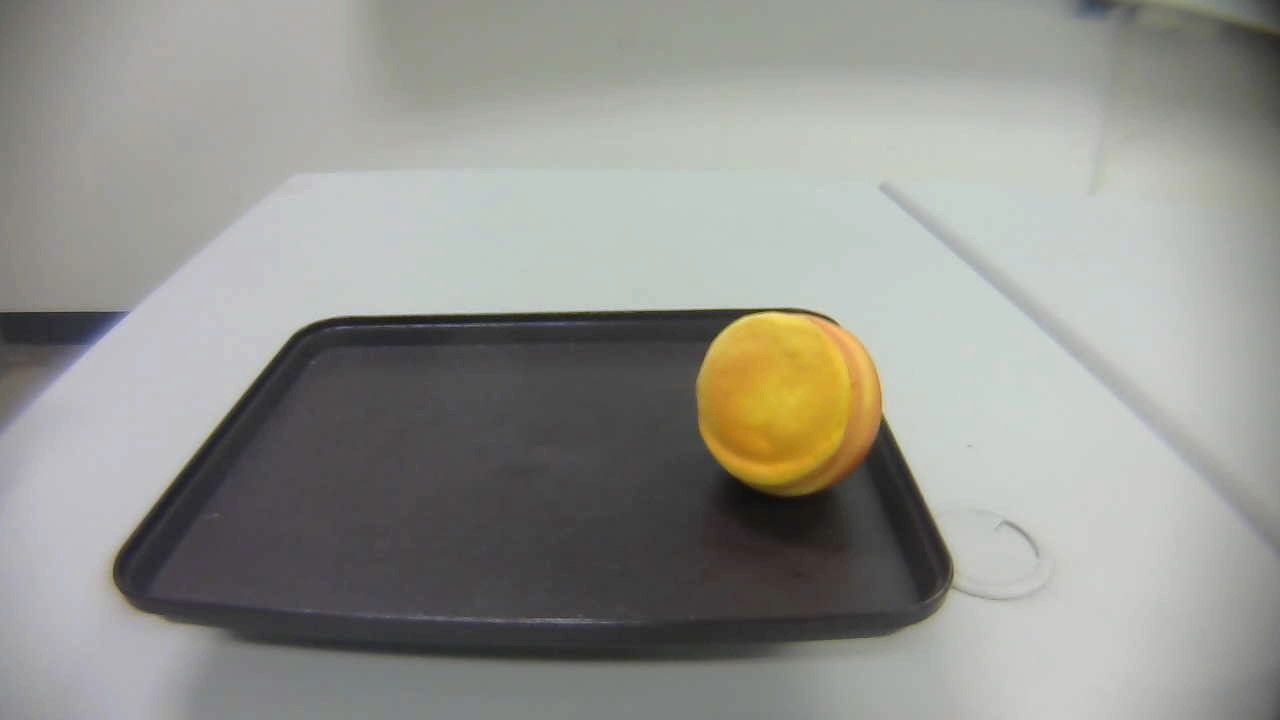bun: (694, 310, 883, 494)
